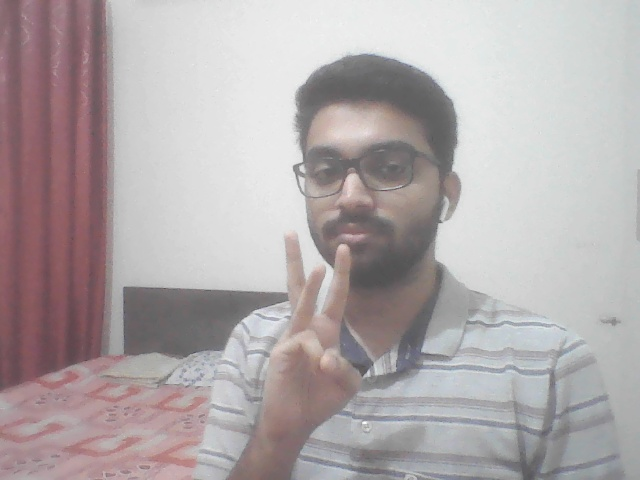water: (240, 212, 394, 452)
